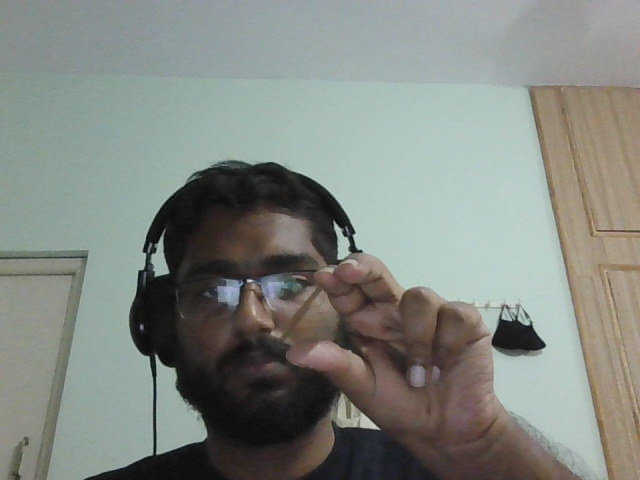No: (286, 236, 506, 473)
